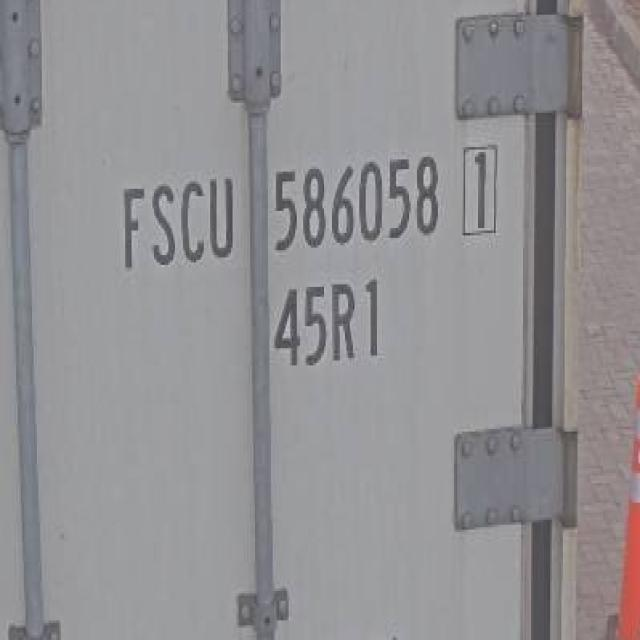dv: (459, 137, 502, 246)
owner: (110, 160, 238, 284)
serial: (266, 152, 447, 262)
size: (269, 271, 381, 372)
